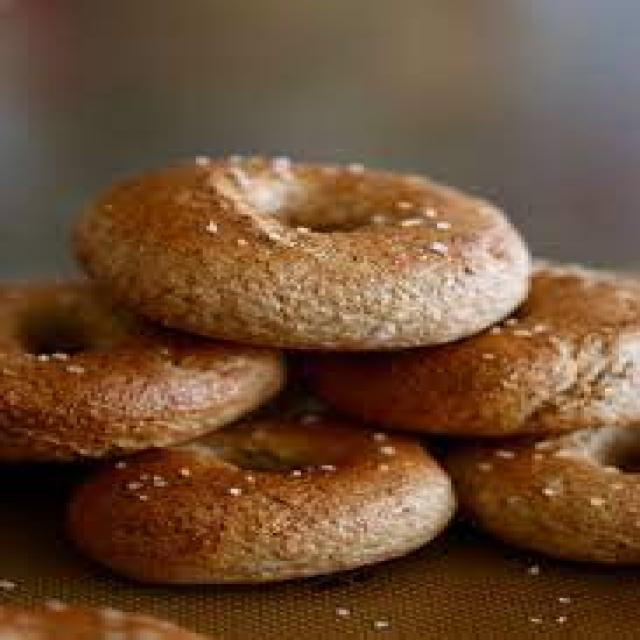Bagel: (73, 156, 530, 351), (70, 419, 456, 584), (306, 269, 637, 437), (2, 285, 282, 461), (451, 426, 637, 563)
